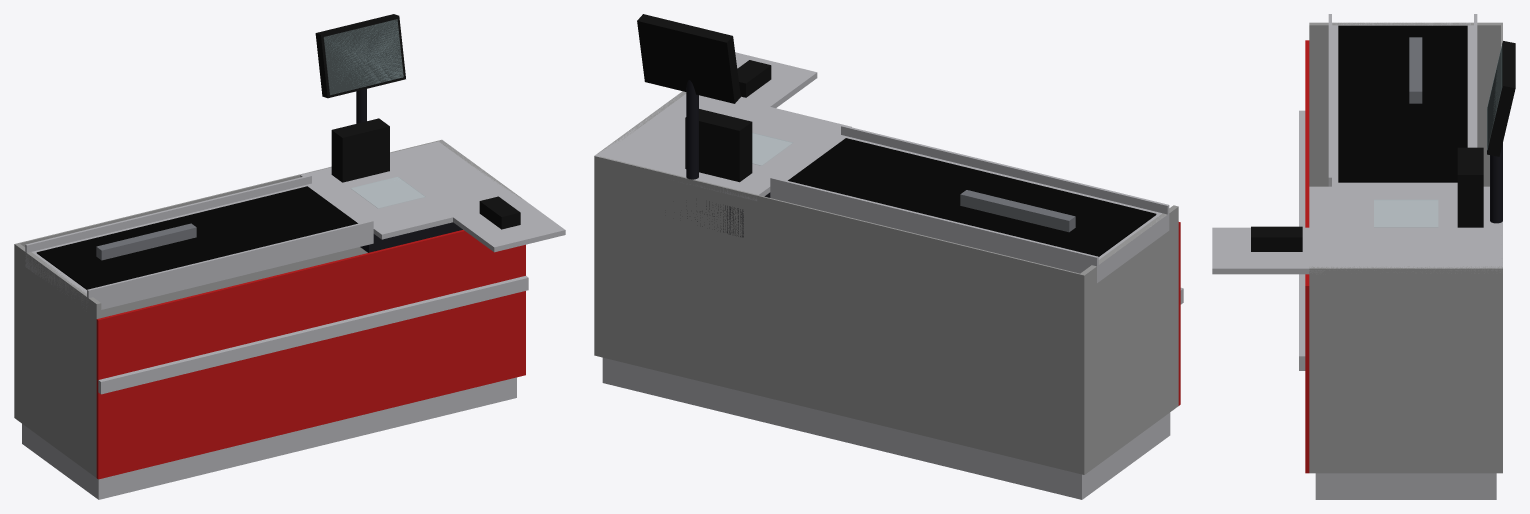
File: 053_checkout_counter_with_conveyor.glb
3 views of the same model, side by side, from view 1: azimuth 30°, elevation 25°; view 2: azimuth 150°, elevation 25°; view 3: azimuth 270°, elevation 25° (orthographic). The views are drawn at different scales.
Parts seen in each view (by area): view 1: 005_customer_side_fascia, 000_carcass_side_l, 008_conveyor_belt, 004_plinth, 011_scanner_well_top, 006_bumper_rail, 007_conveyor_bed, 016_pos_screen, 017_pos_screen_glass, 003_carcass_back_panel, 013_bioptic_scanner_tower, 014_bagging_shelf (+6 smaller); view 2: 003_carcass_back_panel, 000_carcass_side_l, 008_conveyor_belt, 004_plinth, 011_scanner_well_top, 007_conveyor_bed, 016_pos_screen, 009_belt_side_guard, 010_belt_side_guard, 013_bioptic_scanner_tower, 020_divider_stick, 014_bagging_shelf (+4 smaller); view 3: 001_carcass_side_r, 008_conveyor_belt, 011_scanner_well_top, 000_carcass_side_l, 004_plinth, 014_bagging_shelf, 007_conveyor_bed, 016_pos_screen, 013_bioptic_scanner_tower, 005_customer_side_fascia, 012_scanner_glass, 006_bumper_rail (+6 smaller).
Boxes of the visible parts, left/top/right/bottom form: 005_customer_side_fascia: left=96, top=230, right=525, bottom=479; 000_carcass_side_l: left=14, top=243, right=101, bottom=477; 008_conveyor_belt: left=36, top=186, right=357, bottom=289; 004_plinth: left=22, top=377, right=516, bottom=499; 011_scanner_well_top: left=300, top=140, right=523, bottom=239; 006_bumper_rail: left=98, top=276, right=528, bottom=394; 007_conveyor_bed: left=25, top=183, right=373, bottom=311; 016_pos_screen: left=315, top=14, right=405, bottom=98; 017_pos_screen_glass: left=324, top=19, right=403, bottom=94; 003_carcass_back_panel: left=19, top=141, right=437, bottom=317; 013_bioptic_scanner_tower: left=331, top=118, right=389, bottom=182; 014_bagging_shelf: left=453, top=200, right=565, bottom=252; 003_carcass_back_panel: left=599, top=156, right=1079, bottom=473; 000_carcass_side_l: left=1079, top=205, right=1178, bottom=474; 008_conveyor_belt: left=788, top=138, right=1156, bottom=256; 004_plinth: left=602, top=357, right=1170, bottom=499; 011_scanner_well_top: left=594, top=92, right=851, bottom=201; 007_conveyor_bed: left=770, top=135, right=1169, bottom=282; 016_pos_screen: left=637, top=14, right=740, bottom=103; 009_belt_side_guard: left=770, top=177, right=1098, bottom=266; 010_belt_side_guard: left=841, top=125, right=1169, bottom=214; 013_bioptic_scanner_tower: left=685, top=109, right=752, bottom=182; 020_divider_stick: left=960, top=190, right=1075, bottom=232; 014_bagging_shelf: left=735, top=52, right=817, bottom=107; 001_carcass_side_r: left=1309, top=266, right=1502, bottom=473; 008_conveyor_belt: left=1338, top=25, right=1467, bottom=182; 011_scanner_well_top: left=1309, top=186, right=1502, bottom=274; 000_carcass_side_l: left=1309, top=22, right=1502, bottom=186; 004_plinth: left=1315, top=473, right=1496, bottom=499; 014_bagging_shelf: left=1212, top=227, right=1309, bottom=274; 007_conveyor_bed: left=1332, top=22, right=1473, bottom=186; 016_pos_screen: left=1487, top=41, right=1515, bottom=156; 013_bioptic_scanner_tower: left=1457, top=147, right=1483, bottom=227; 005_customer_side_fascia: left=1305, top=40, right=1309, bottom=473; 012_scanner_glass: left=1374, top=199, right=1437, bottom=227; 006_bumper_rail: left=1299, top=110, right=1305, bottom=370.
Size of the model in its own units: 1.8 by 1.34 by 0.9391.
